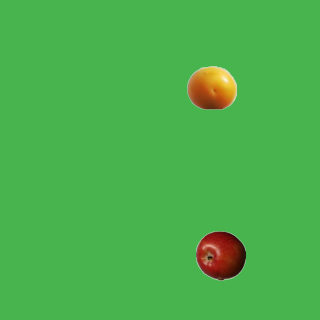Apple Braeburn: (195, 230, 245, 280)
Cherry Wax Yellow: (186, 62, 236, 112)
